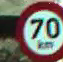Speed limit: (11, 0, 62, 56)
